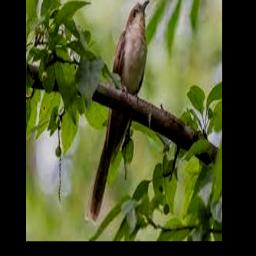Cuckoo: (84, 0, 150, 224)
